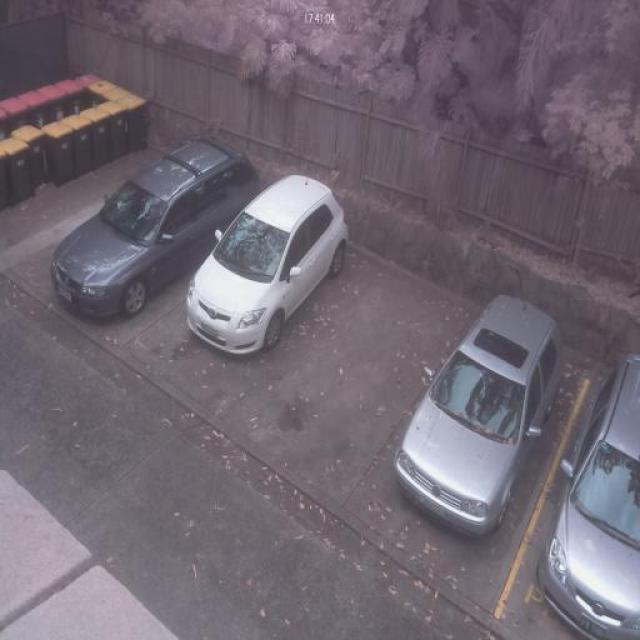Legalparking: (332, 271, 640, 640), (12, 105, 376, 408)
